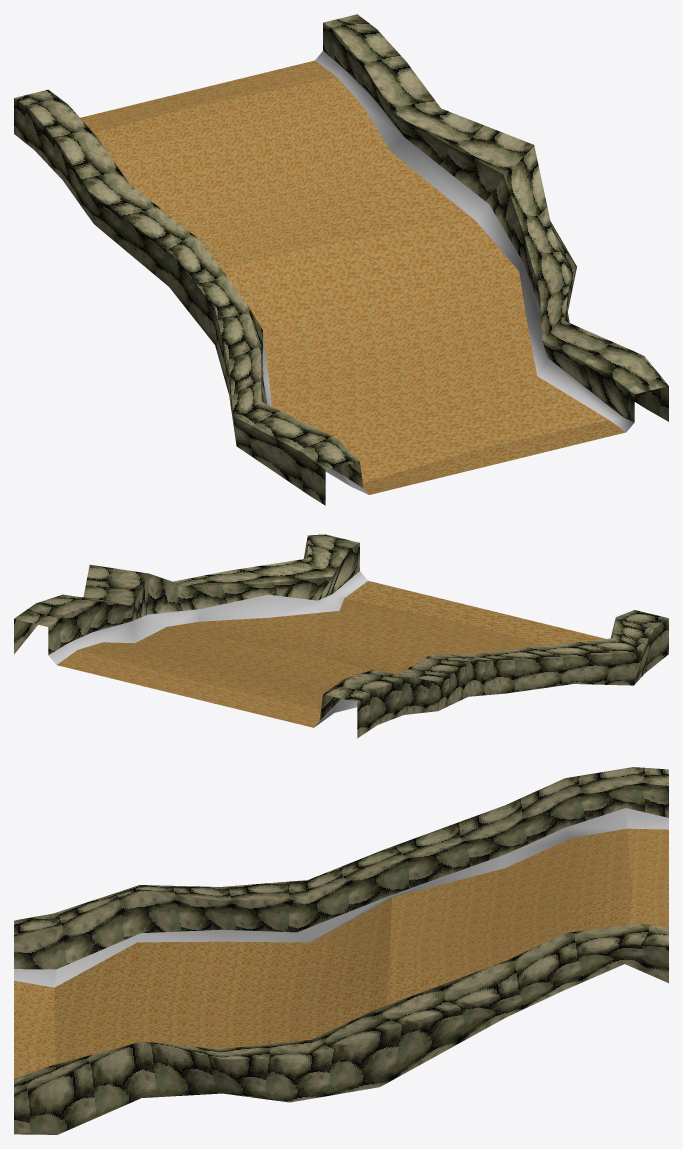
The picture shows the model from 3 angles, top to bottom: view 1: azimuth 30°, elevation 25°; view 2: azimuth 150°, elevation 25°; view 3: azimuth 270°, elevation 25°; orthographic projection. The views are drawn at different scales.
Parts seen in each view (by area): view 1: tv_t0b0e0v2; view 2: tv_t0b0e0v2; view 3: tv_t0b0e0v2.
Part boxes in pixels (<box>): tv_t0b0e0v2: <box>14,14,668,505</box>; tv_t0b0e0v2: <box>14,534,668,738</box>; tv_t0b0e0v2: <box>14,767,668,1134</box>.
Size of what is drawn, in the model's own units: 12.42 by 15.72 by 5.26.
